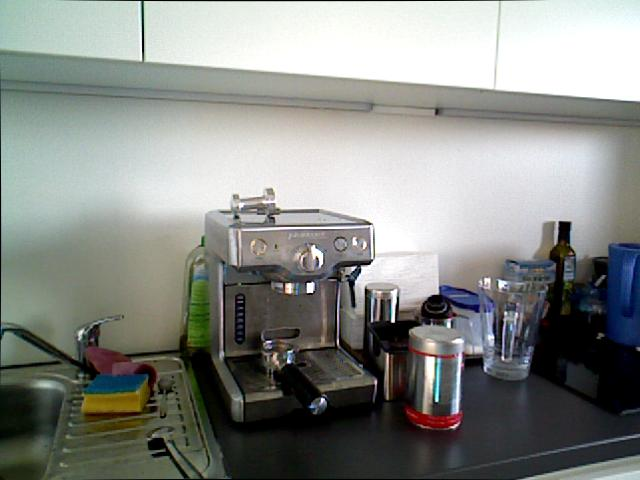bench: (179, 235, 211, 357), (548, 220, 576, 315)
couch: (0, 362, 73, 480)
handbag: (475, 272, 548, 385), (608, 240, 640, 347)
toilet: (131, 421, 203, 480), (152, 373, 186, 420)
